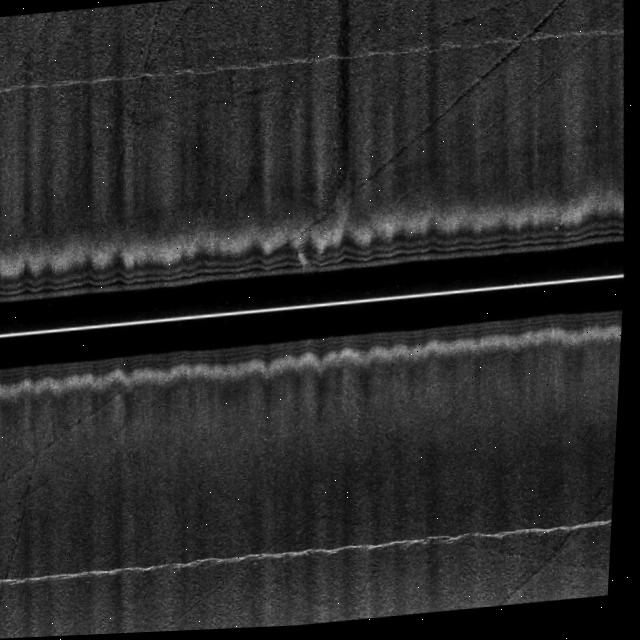mine: (300, 251, 317, 268)
